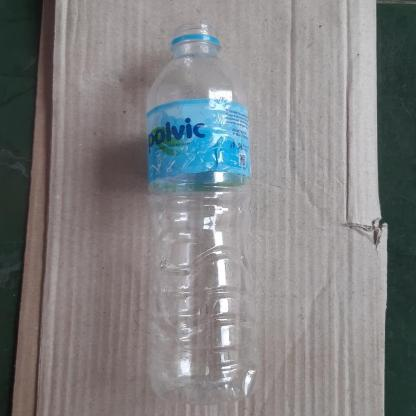Plastic Bottle: (148, 22, 254, 406)
